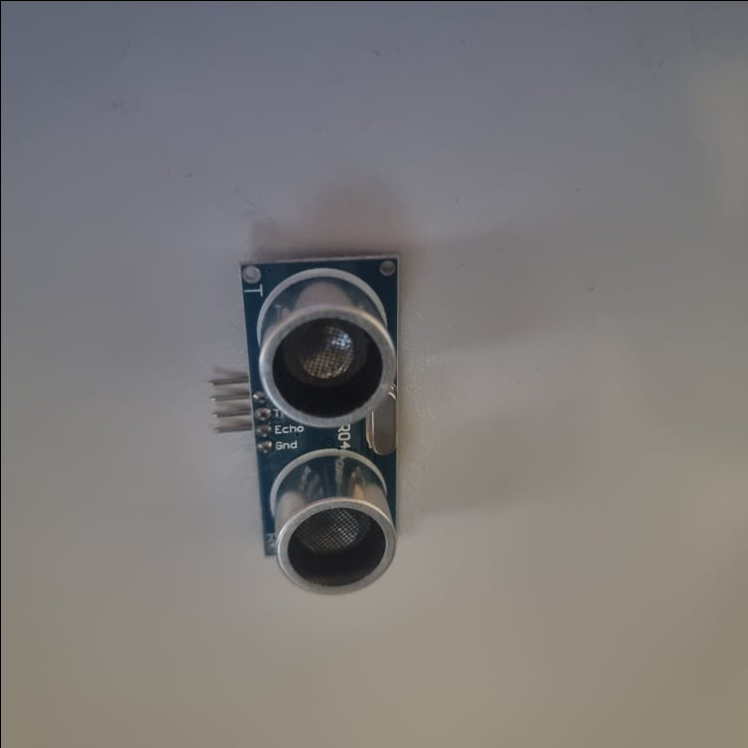SENSOR: (207, 253, 404, 595)
